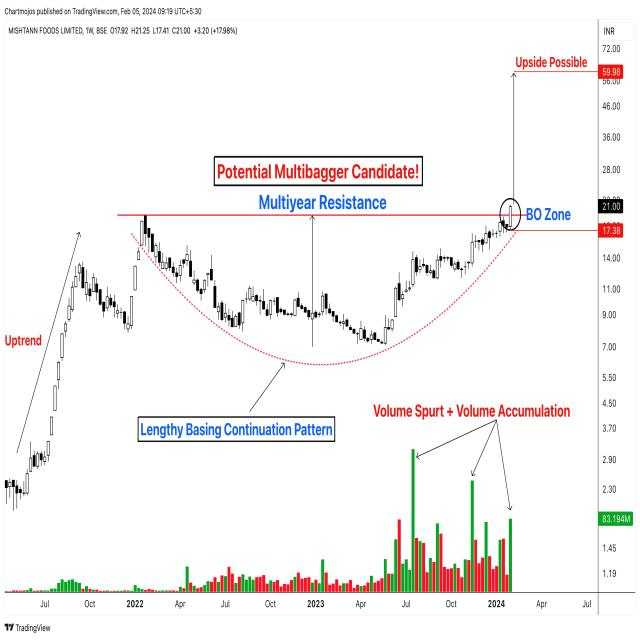Cup-and-handle: (140, 221, 503, 349)
